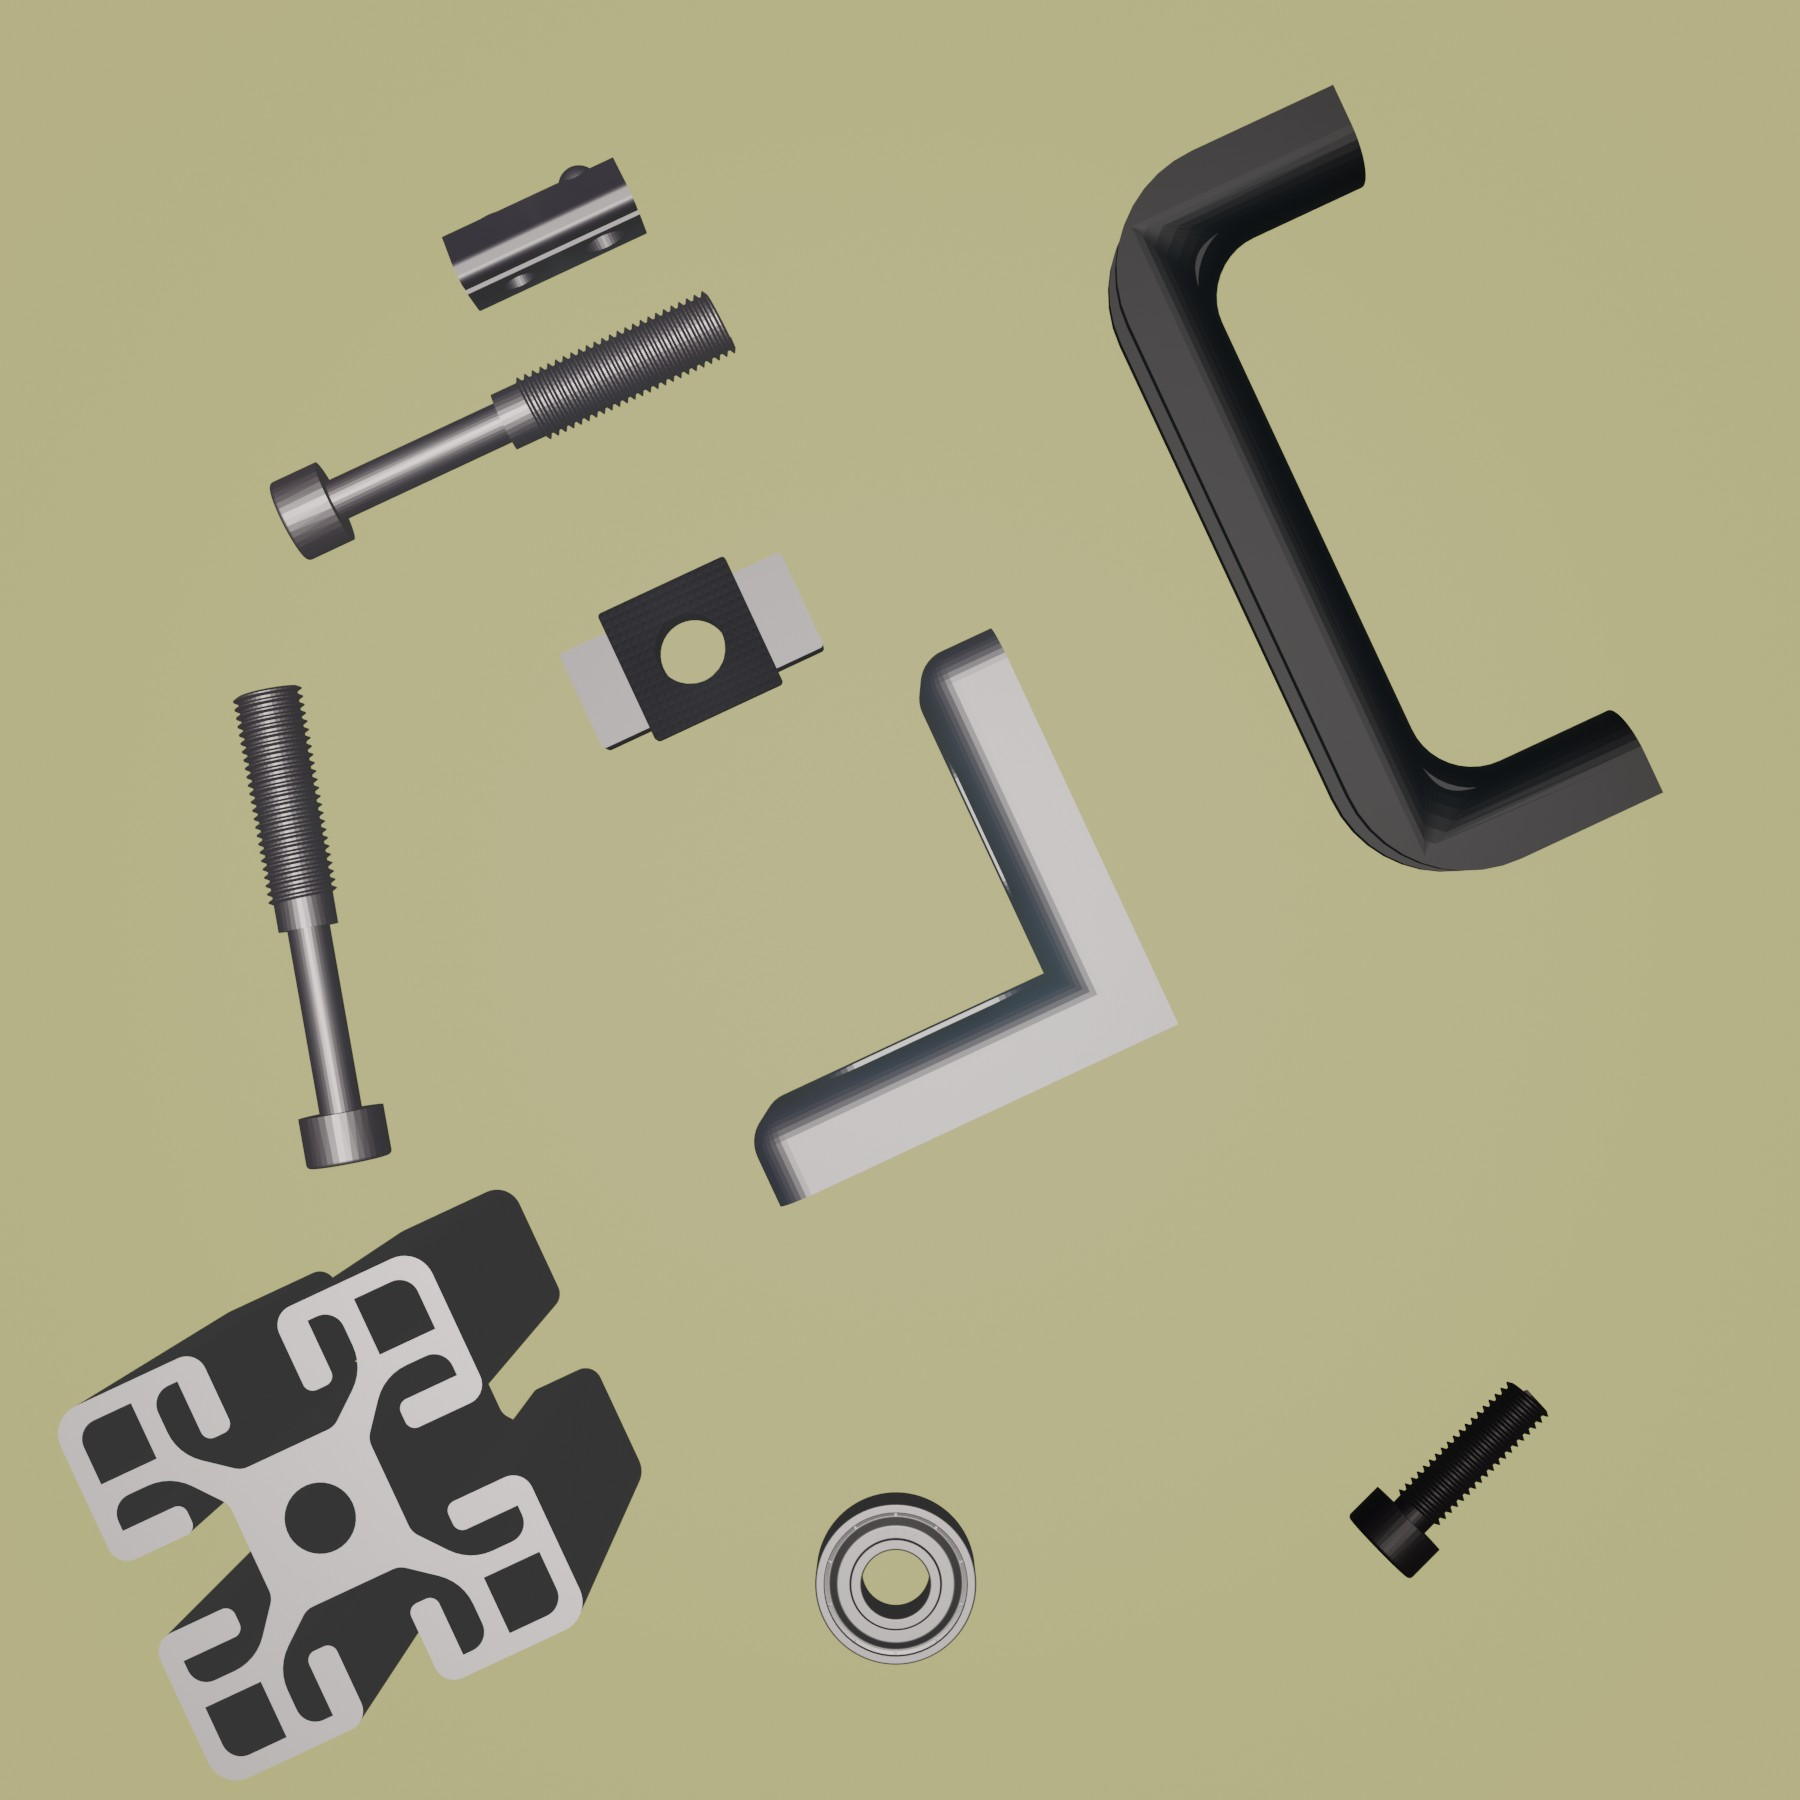Aluminium Extension: (56, 1187, 641, 1780)
Ball Bearing: (813, 1488, 981, 1670)
Multiwinkel: (752, 621, 1182, 1212)
Pull Handle: (1104, 82, 1665, 874)
Shoulder Socket Head Cap Screw: (267, 285, 738, 562), (227, 681, 392, 1172)
Socket Head Cap Screw: (1348, 1376, 1551, 1581)
T Nut Square: (555, 541, 829, 755)
T Spring Nut: (440, 153, 649, 315)
